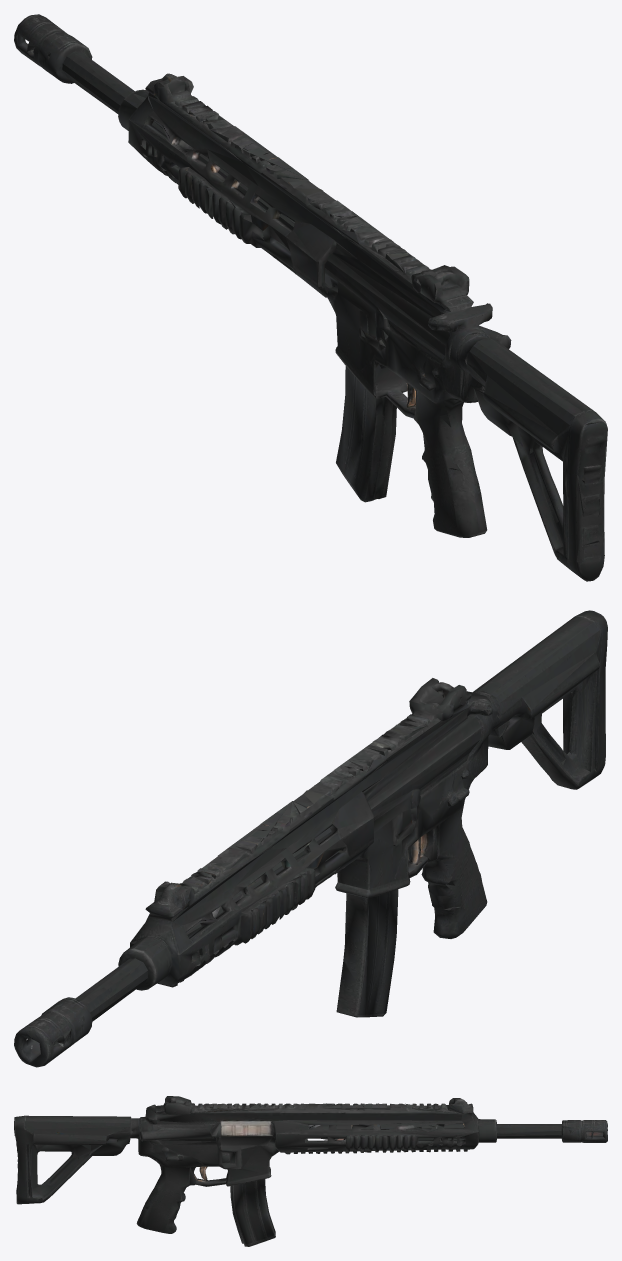
The model's file is dmr_sentry.glb.
3 renders of one model, top to bottom at view 1: azimuth 30°, elevation 25°; view 2: azimuth 150°, elevation 25°; view 3: azimuth 270°, elevation 25°, orthographic. The views are drawn at different scales.
Visible parts, largest first — view 1: dmr_sentry; view 2: dmr_sentry; view 3: dmr_sentry.
Boxes of the visible parts, x1=… form: dmr_sentry: x1=14, y1=14, x2=607, y2=581; dmr_sentry: x1=14, y1=610, x2=607, y2=1067; dmr_sentry: x1=14, y1=1096, x2=607, y2=1246.
Bounding box in the file's own units: 0.0891 × 0.3037 × 1.12.
Materials: 1 (1 with a texture image).
